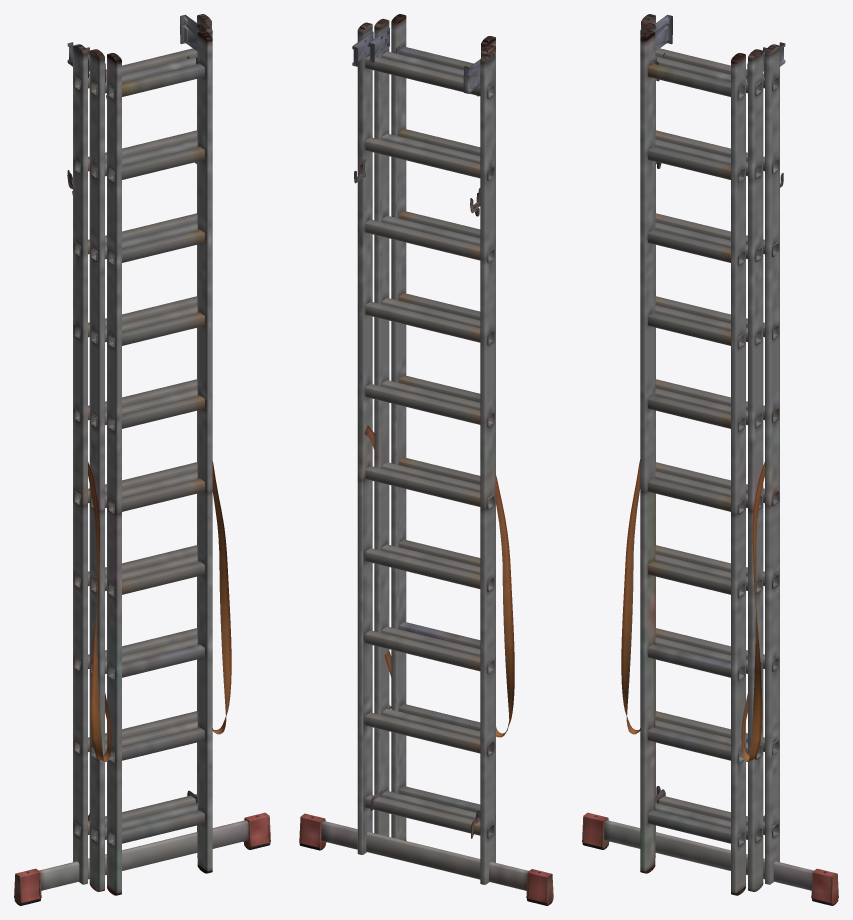
3 views of the same model, side by side, from view 1: azimuth 30°, elevation 25°; view 2: azimuth 150°, elevation 25°; view 3: azimuth 330°, elevation 25° (orthographic).
Visible parts, largest first — view 1: ladder_section_03, ladder_section_01, ladder_section_02, ladder_ribbon; view 2: ladder_section_01, ladder_section_02, ladder_section_03, ladder_ribbon; view 3: ladder_section_03, ladder_section_01, ladder_section_02, ladder_ribbon.
Part boxes in pixels (<box>): ladder_section_03: <box>106,30,212,895</box>; ladder_section_01: <box>14,14,270,905</box>; ladder_section_02: <box>86,23,212,891</box>; ladder_ribbon: <box>88,461,231,761</box>; ladder_section_01: <box>299,22,553,905</box>; ladder_section_02: <box>369,18,495,862</box>; ladder_section_03: <box>388,14,495,840</box>; ladder_ribbon: <box>364,425,514,737</box>; ladder_section_03: <box>640,30,745,895</box>; ladder_section_01: <box>582,14,838,905</box>; ladder_section_02: <box>640,23,766,891</box>; ladder_ribbon: <box>621,459,764,761</box>.
Size of the model in its own units: 0.6615 by 2.13 by 0.1776.
Materials: 1 (1 with a texture image).
